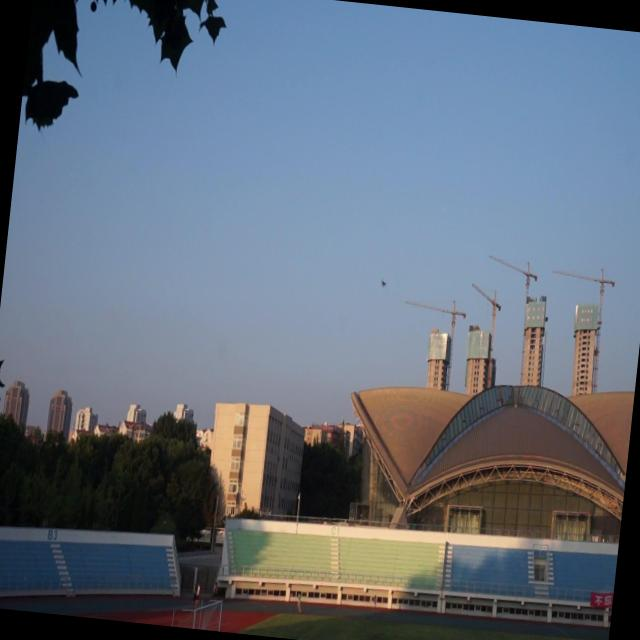drone: (376, 273, 390, 294)
